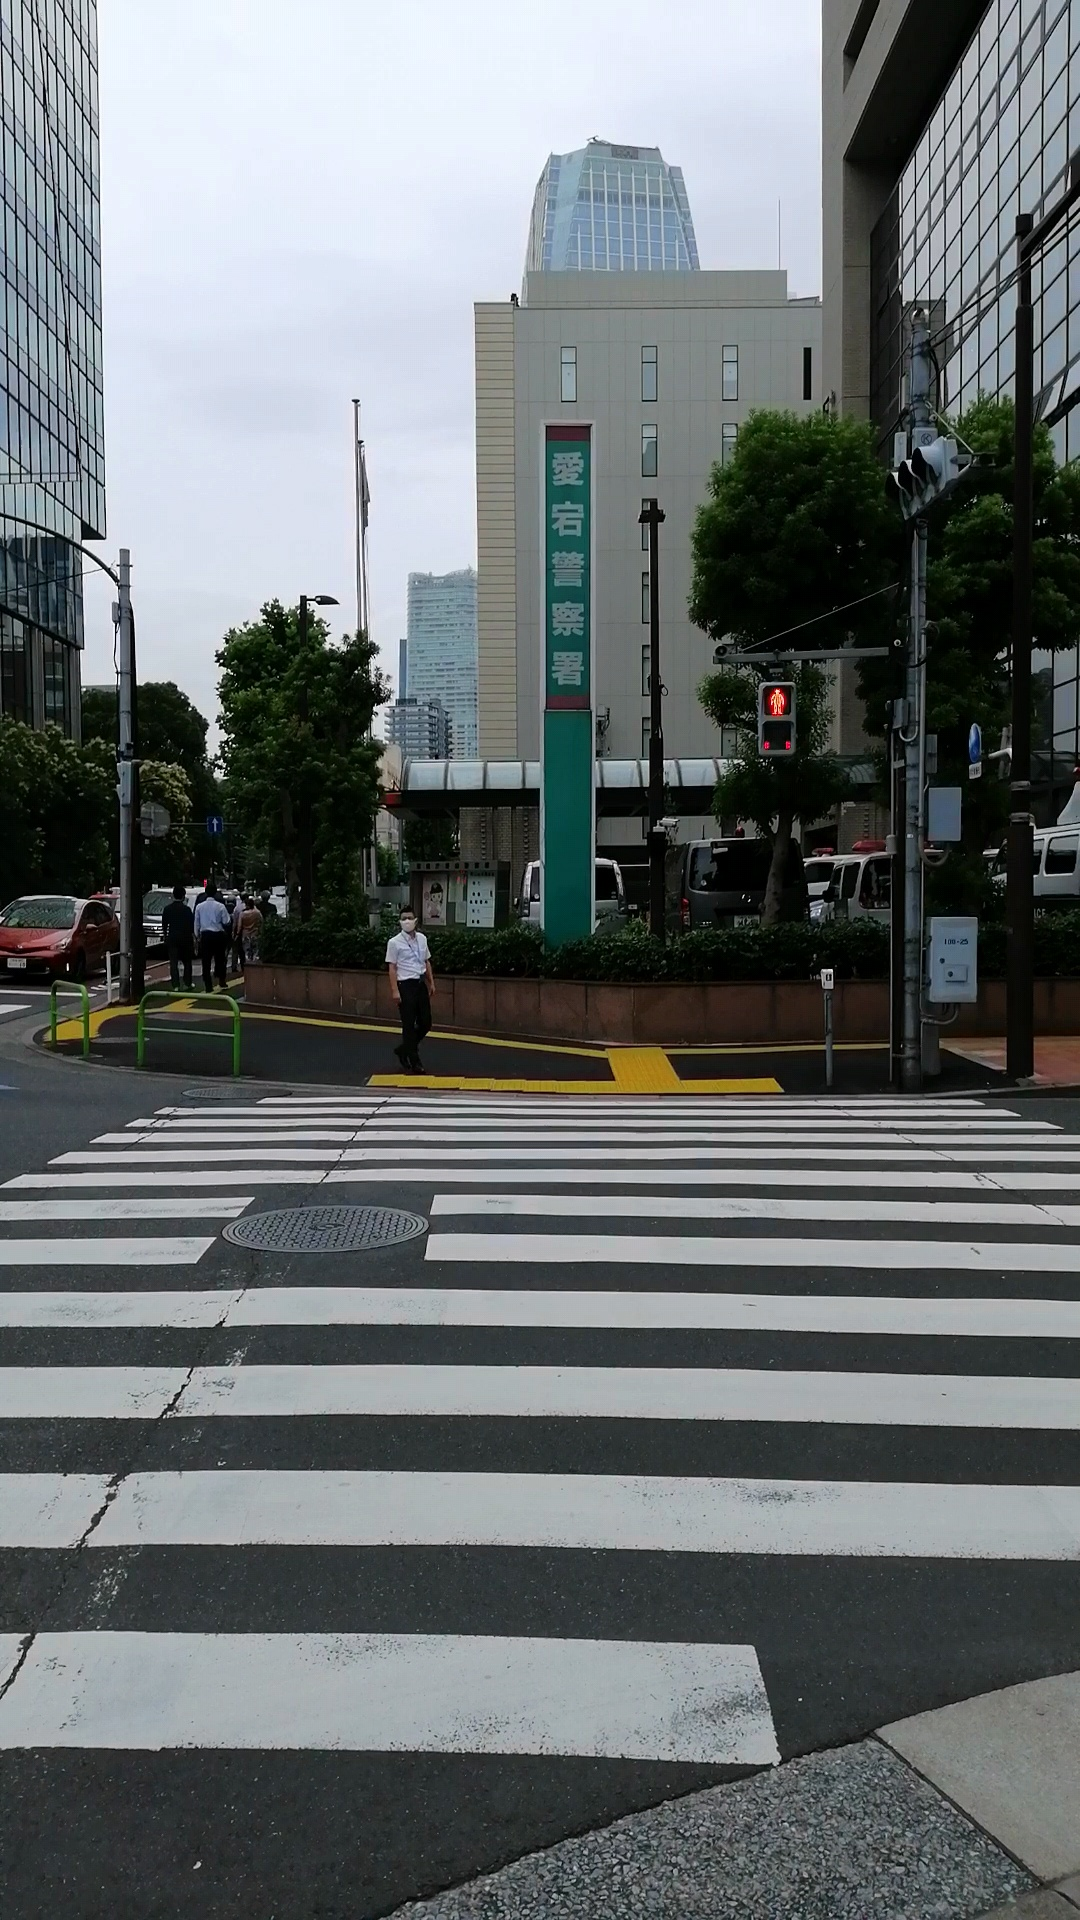red: (758, 680, 796, 754)
